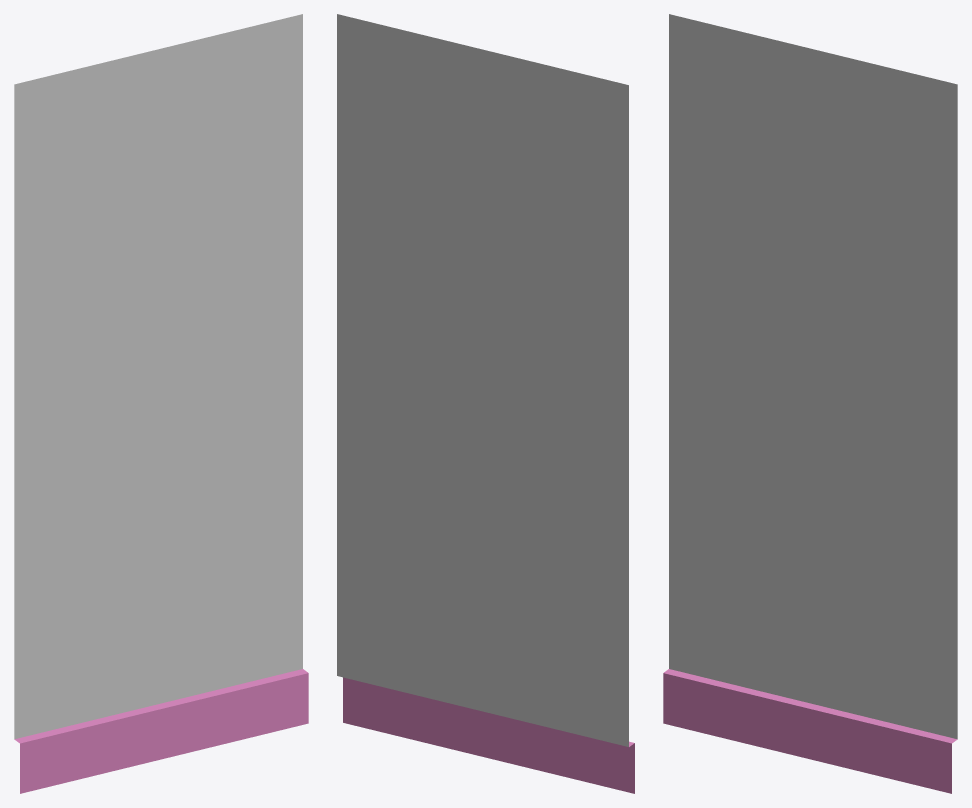
Rendered from Wall6.fbx.
The picture shows the model from 3 angles, left to right: view 1: azimuth 30°, elevation 25°; view 2: azimuth 150°, elevation 25°; view 3: azimuth 330°, elevation 25°; orthographic projection.
Parts seen in each view (by area): view 1: Cube.016; view 2: Cube.016; view 3: Cube.016.
Boxes of the visible parts, box(x1,y1,x2,y2) form: Cube.016: box(14, 14, 308, 793); Cube.016: box(337, 14, 634, 793); Cube.016: box(663, 14, 957, 793).
Size of the model in its own units: 300 by 700 by 10.24.
